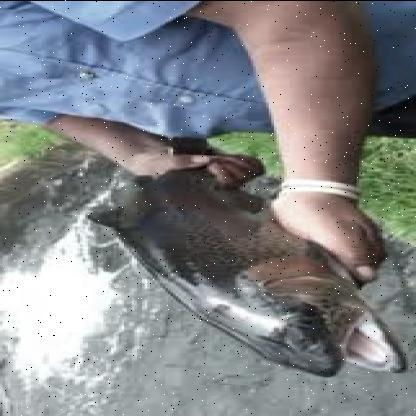fish: (88, 134, 401, 376)
